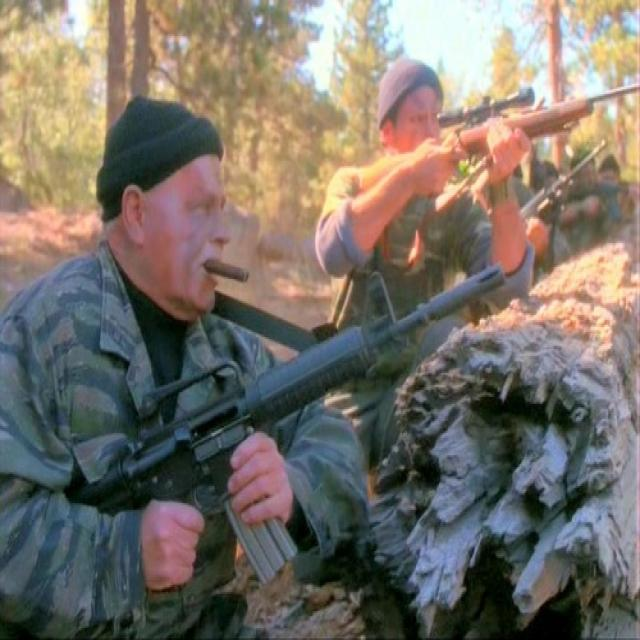rifle: (68, 266, 509, 590), (350, 83, 640, 193)
